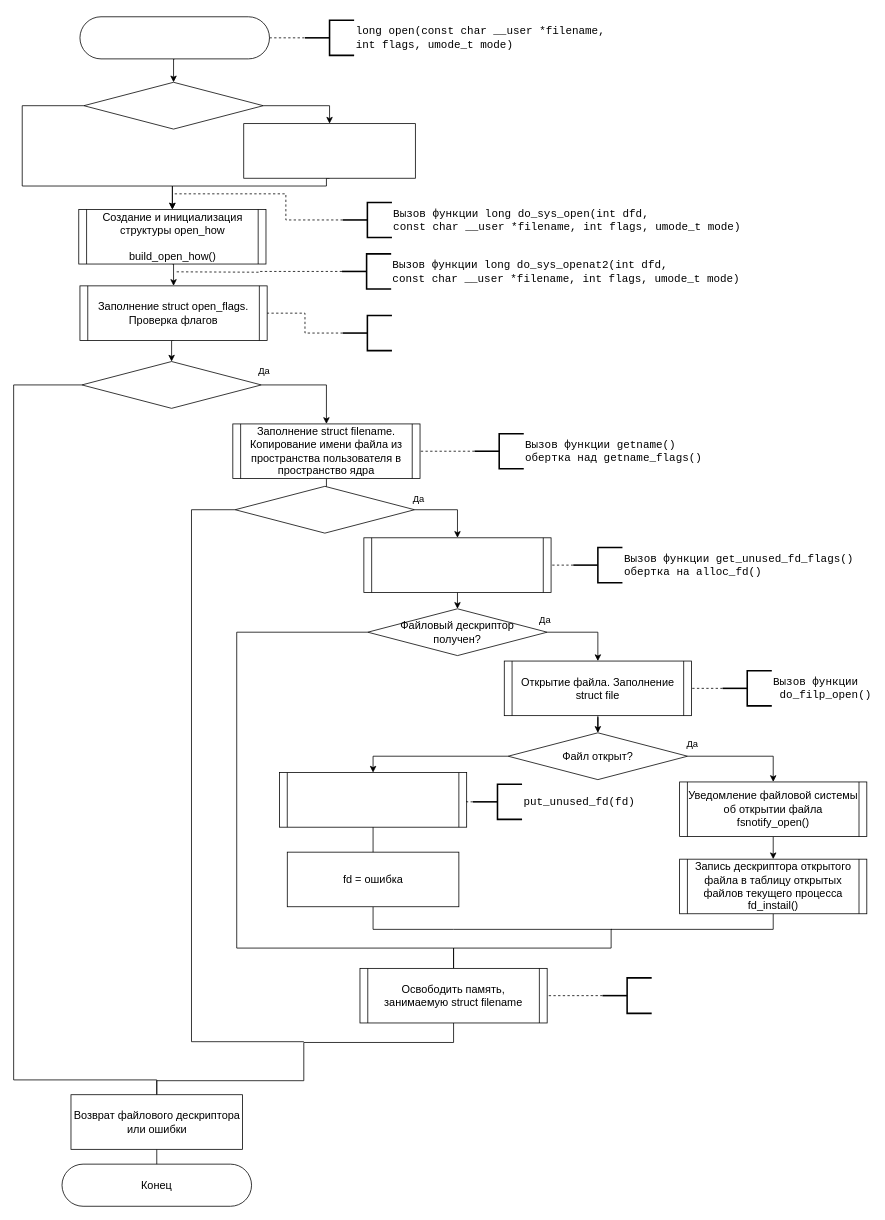
Image size: 885x1220. Some labels were removed from this diagram. Here are the shapes that lost their labels. From the top down, the centre of each, then its label:
At (174,37): "Начало".
At (173,105): "Система 64х разрядная?".
At (329,150): "Добавление флаг O_LARGEFILE".
At (367,332): "Вызов функции build_open_flags()".
At (171,384): "Проверка флагов успешна?".
At (324,509): "Копирование успешно?".
At (457,564): "Поиск свободного файлового дескриптора и отметить его как занятый".
At (373,799): "Освобождение файлового дескриптора. Вызов функции put_unused_fd()".
At (626,995): "Вызов функции putname()".
